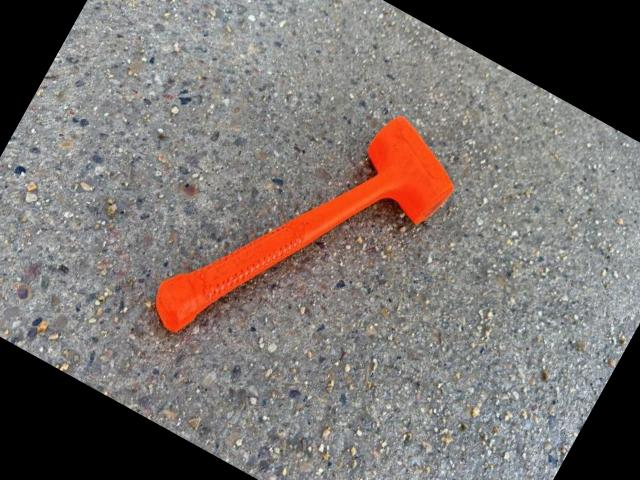hammer: (140, 52, 473, 419)
